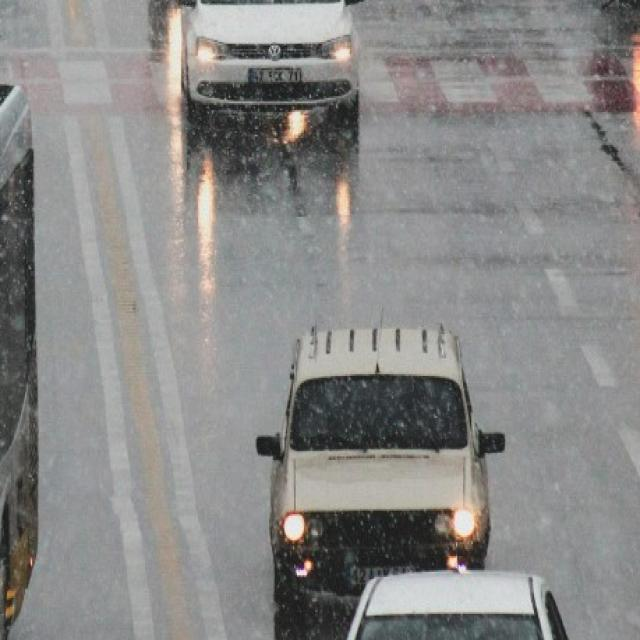bus: (0, 71, 40, 640)
car: (260, 323, 505, 610), (176, 0, 362, 126), (294, 566, 596, 640)
